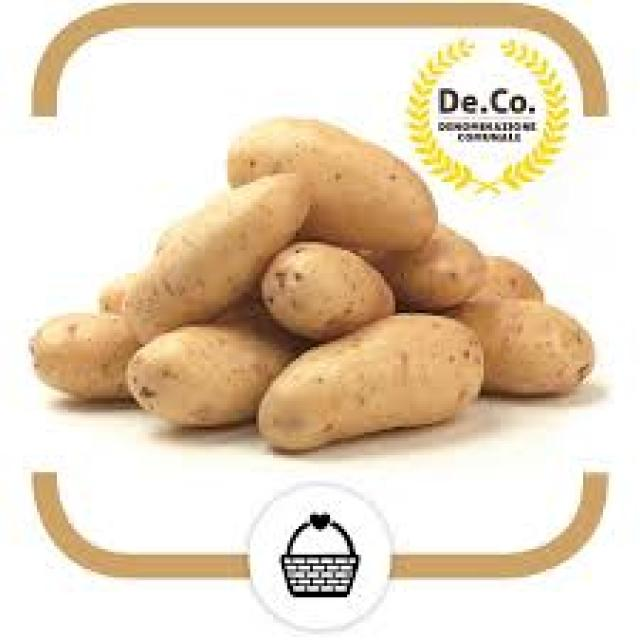Potato: (263, 283, 511, 468), (129, 152, 346, 336), (18, 303, 268, 430)
